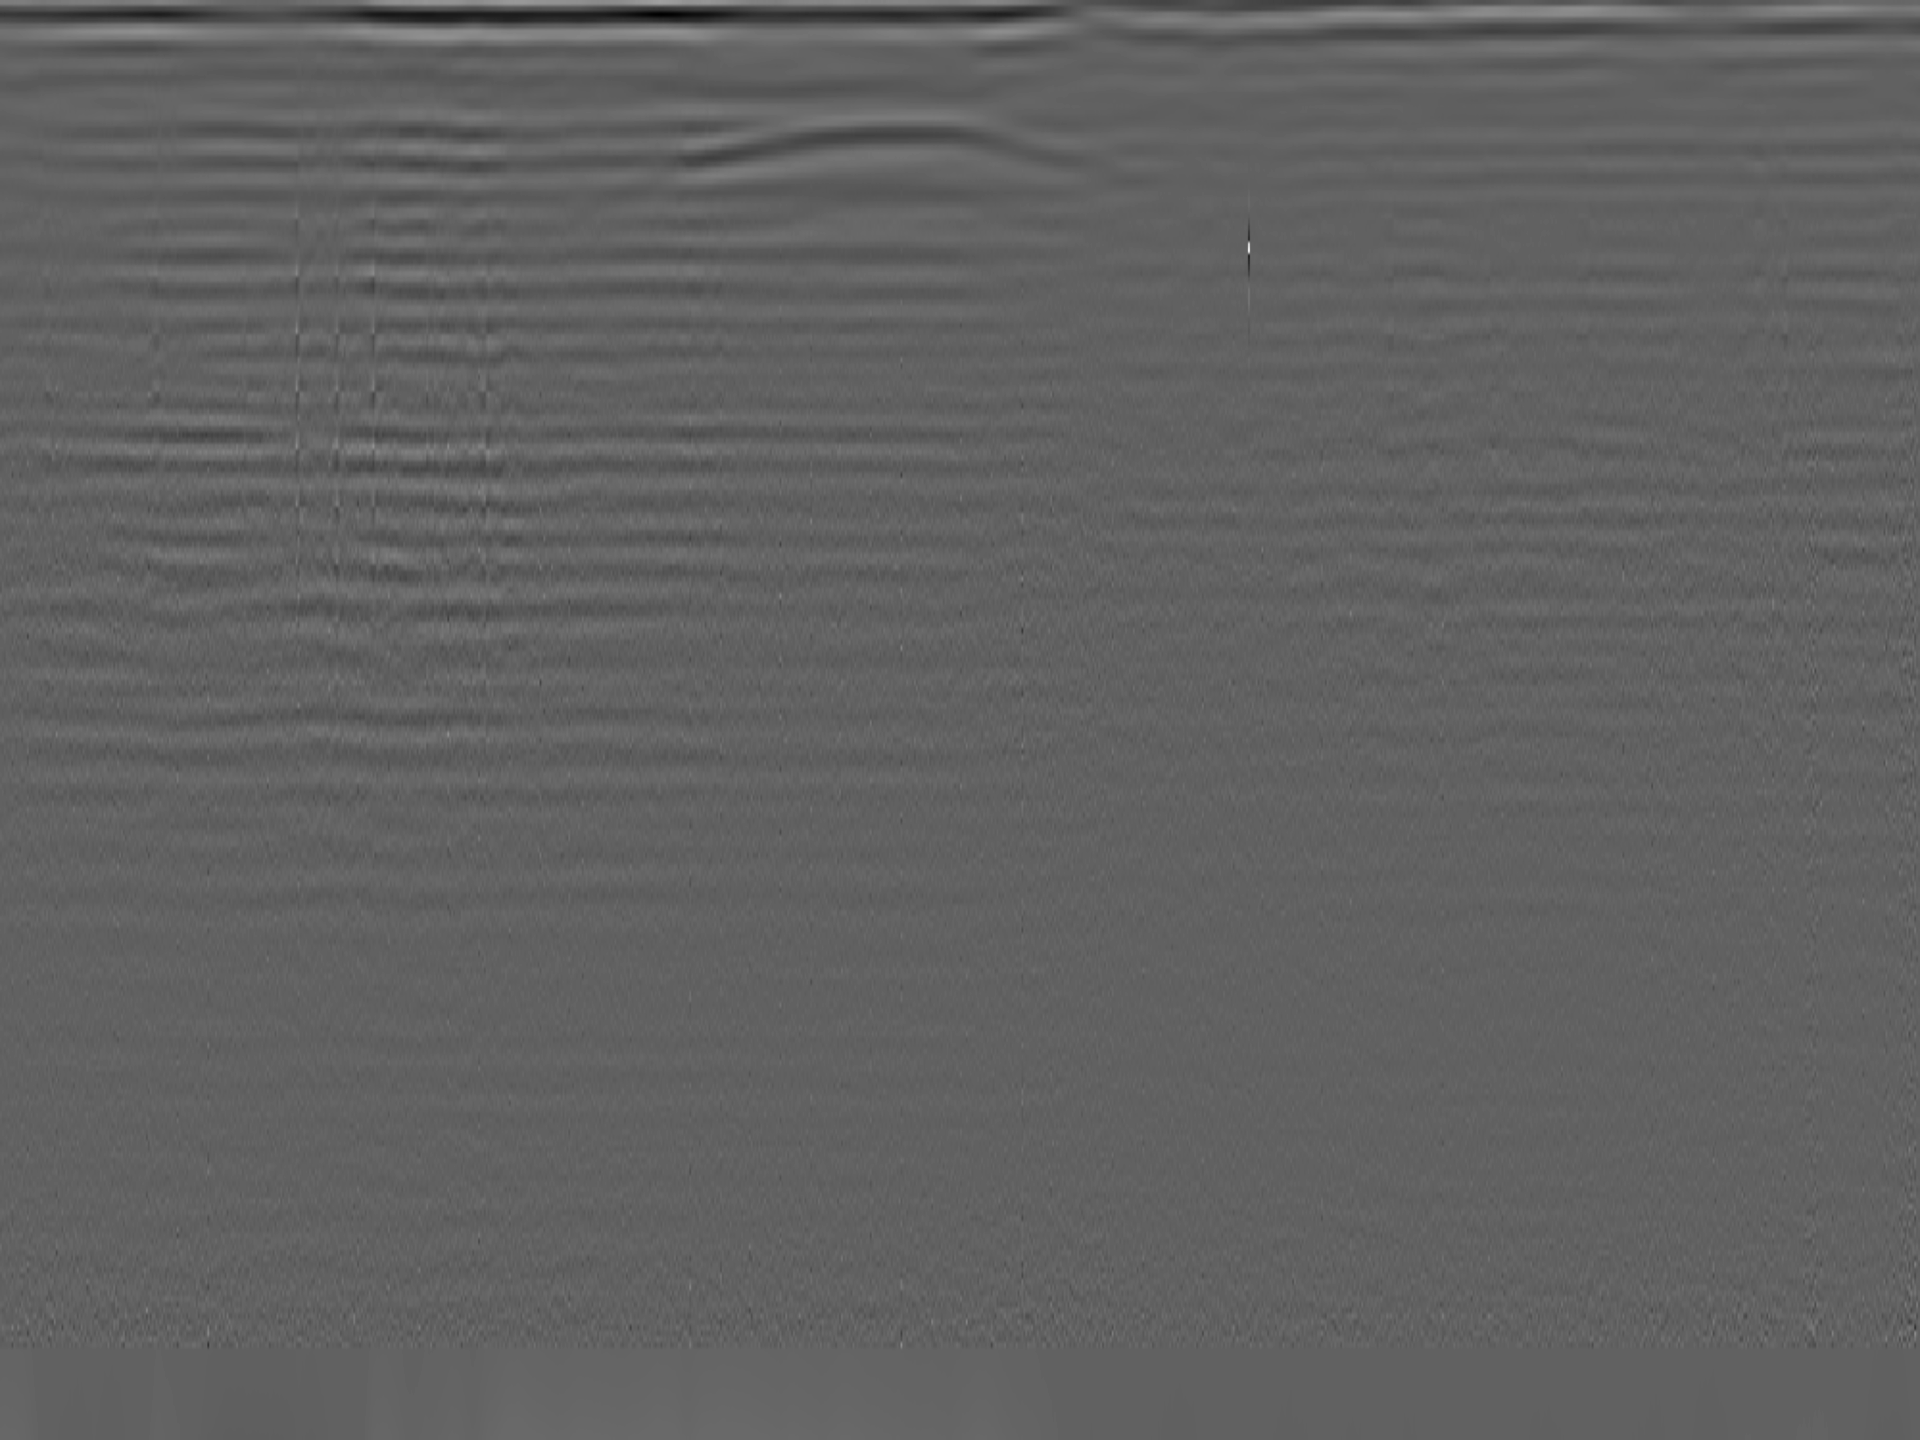Tunnel: (671, 112, 1129, 175)
